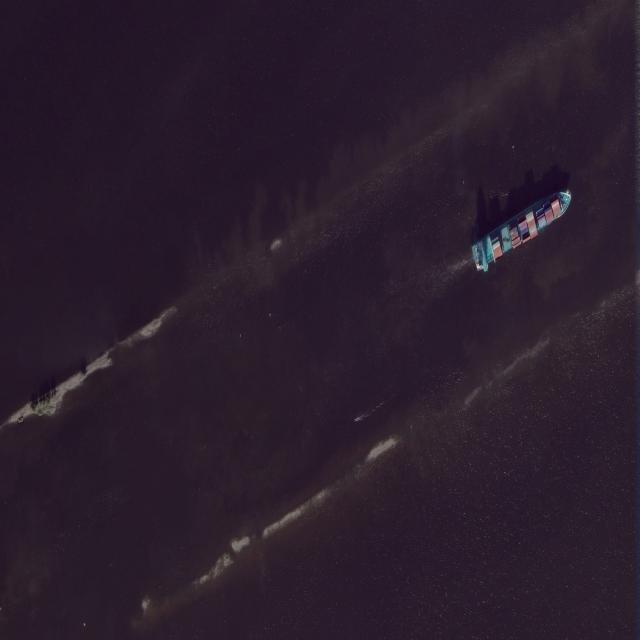ship: (471, 190, 573, 274), (354, 418, 358, 422)
